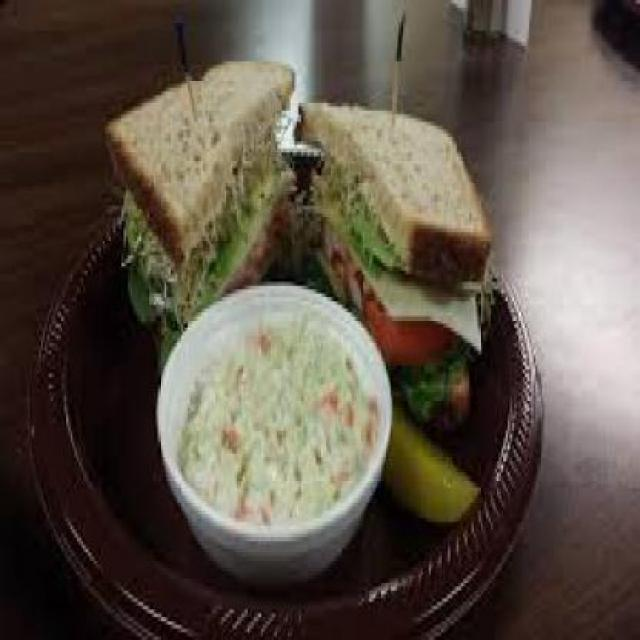clam chowder: (151, 278, 391, 560)
club sandwich: (98, 38, 498, 412)
